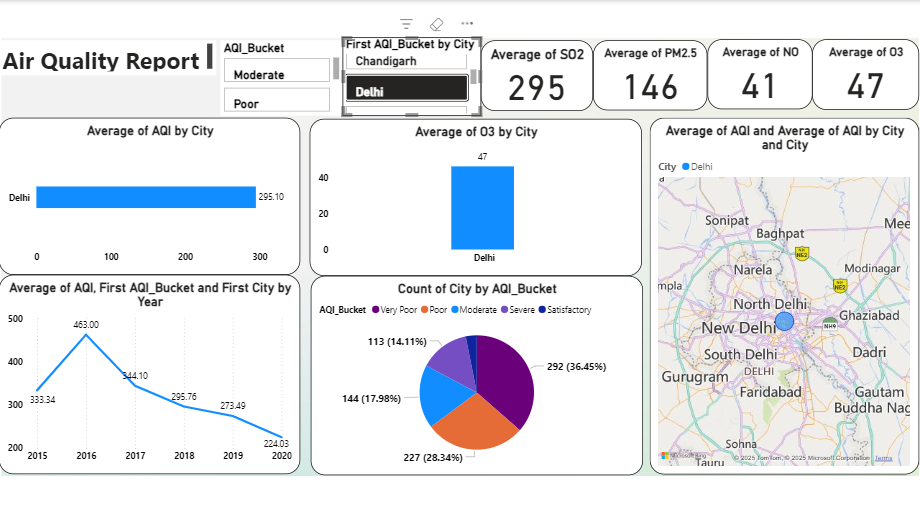

What the dashboard file says about the page in this screenshot:
{"tool":"powerbi","page":{"name":"Page 1","canvas":[1280,720],"ordinal":0},"visuals":[{"type":"card","title":"Average of PM2.5","fields":{"Values":["Avg(city_day.PM2.5)"]},"box":[824.3,55.7,158.6,97.1],"z":0},{"type":"card","title":"Average of NO","fields":{"Values":["Avg(city_day.NO)"]},"box":[984.3,54.3,145.7,97.1],"z":1000},{"type":"card","title":"Average of SO2","fields":{"Values":["Avg(city_day.AQI)"]},"box":[668.6,55.7,155.7,98.6],"z":2000},{"type":"card","title":"Average of O3","fields":{"Values":["Avg(city_day.O3)"]},"box":[1130,54.3,148.6,98.6],"z":3000},{"type":"textbox","box":[0,55.7,301.4,48.6],"z":4000},{"type":"barChart","title":"Average of AQI  by City","fields":{"Category":["city_day.City"],"Y":["Avg(city_day.AQI)"]},"box":[0,162.9,418.6,218.6],"z":5000},{"type":"columnChart","fields":{"Category":["city_day.City"],"Y":["Avg(city_day.O3)"]},"box":[431.4,164.3,461.4,218.6],"z":6000},{"type":"lineChart","fields":{"Category":["city_day.Date.Variation.Date Hierarchy.Year"],"Y":["Avg(city_day.AQI)"]},"box":[0,381.4,418.6,277.1],"z":7000},{"type":"map","fields":{"Size":["Avg(city_day.AQI)"],"Category":["city_day.City"],"Series":["city_day.City"]},"box":[904.3,162.9,374.3,495.7],"z":8000},{"type":"pieChart","fields":{"Category":["city_day.AQI_Bucket"],"Y":["CountNonNull(city_day.City)"]},"box":[432.9,382.9,461.4,277.1],"z":9000},{"type":"advancedSlicerVisual","fields":{"Values":["city_day.City"]},"box":[477.1,51.4,191.4,108.6],"z":10000},{"type":"advancedSlicerVisual","fields":{"Values":["city_day.AQI_Bucket"]},"box":[307.1,55.7,170,104.3],"z":11000}]}

Visuals, with their boxes in screenshot pixels (x1, y1, x2, y2), scaled from the page's 1280x720 canvas onto the 920x517 screenshot:
"Average of PM2.5" card: rect(592, 40, 706, 110)
"Average of NO" card: rect(707, 39, 812, 109)
"Average of SO2" card: rect(481, 40, 592, 111)
"Average of O3" card: rect(812, 39, 919, 110)
textbox: rect(0, 40, 217, 75)
"Average of AQI  by City" barChart: rect(0, 117, 301, 274)
columnChart - city_day.City x Avg(city_day.O3): rect(310, 118, 642, 275)
lineChart - city_day.Date.Variation.Date Hierarchy.Year x Avg(city_day.AQI): rect(0, 274, 301, 473)
map - Avg(city_day.AQI) x city_day.City: rect(650, 117, 919, 473)
pieChart - city_day.AQI_Bucket x CountNonNull(city_day.City): rect(311, 275, 643, 474)
advancedSlicerVisual - city_day.City: rect(343, 37, 480, 115)
advancedSlicerVisual - city_day.AQI_Bucket: rect(221, 40, 343, 115)
